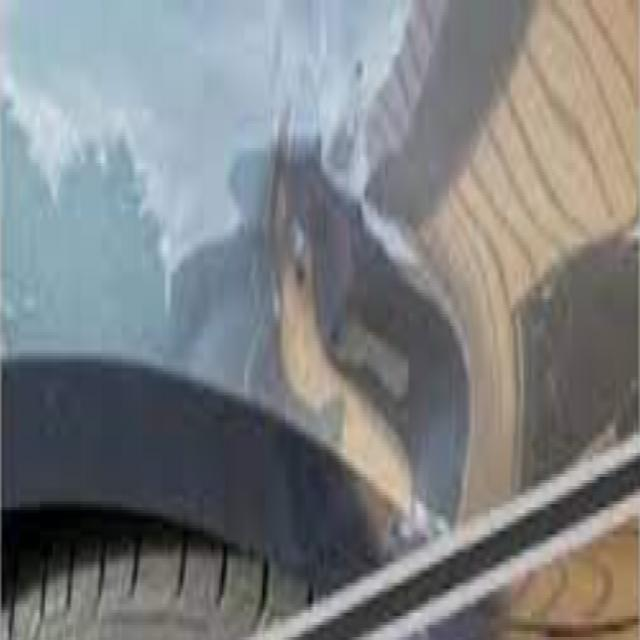dents: (251, 113, 504, 531)
